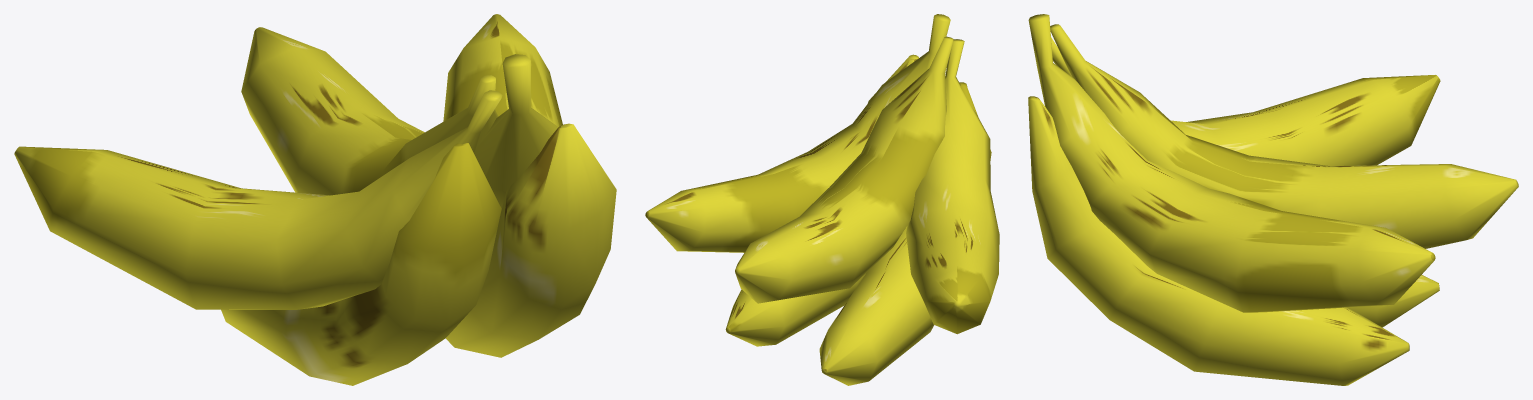
File: banane.fbx
The picture shows the model from 3 angles, left to right: view 1: azimuth 30°, elevation 25°; view 2: azimuth 150°, elevation 25°; view 3: azimuth 270°, elevation 25°; orthographic projection. The views are drawn at different scales.
Parts seen in each view (by area): view 1: Cylinder.007; view 2: Cylinder.007; view 3: Cylinder.007.
Boxes of the visible parts, <box> form: Cylinder.007: <box>14,14,616,385</box>; Cylinder.007: <box>645,14,999,385</box>; Cylinder.007: <box>1028,14,1518,385</box>.
Bounding box in the file's own units: 16.52 × 12.86 × 16.98.
